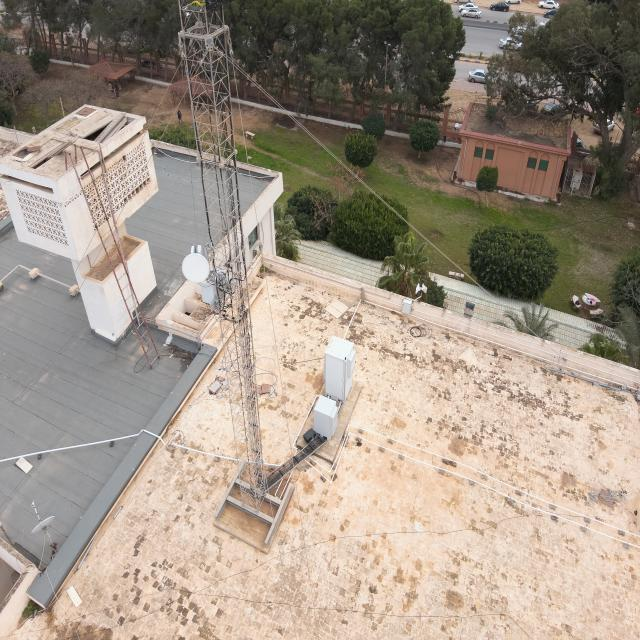microware-dish: (182, 245, 211, 284)
power-box: (200, 265, 231, 305)
